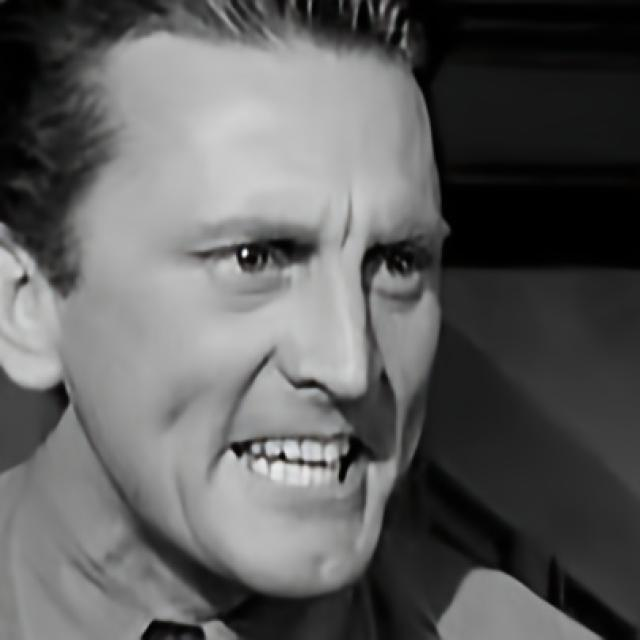disgust: (62, 16, 454, 596)
